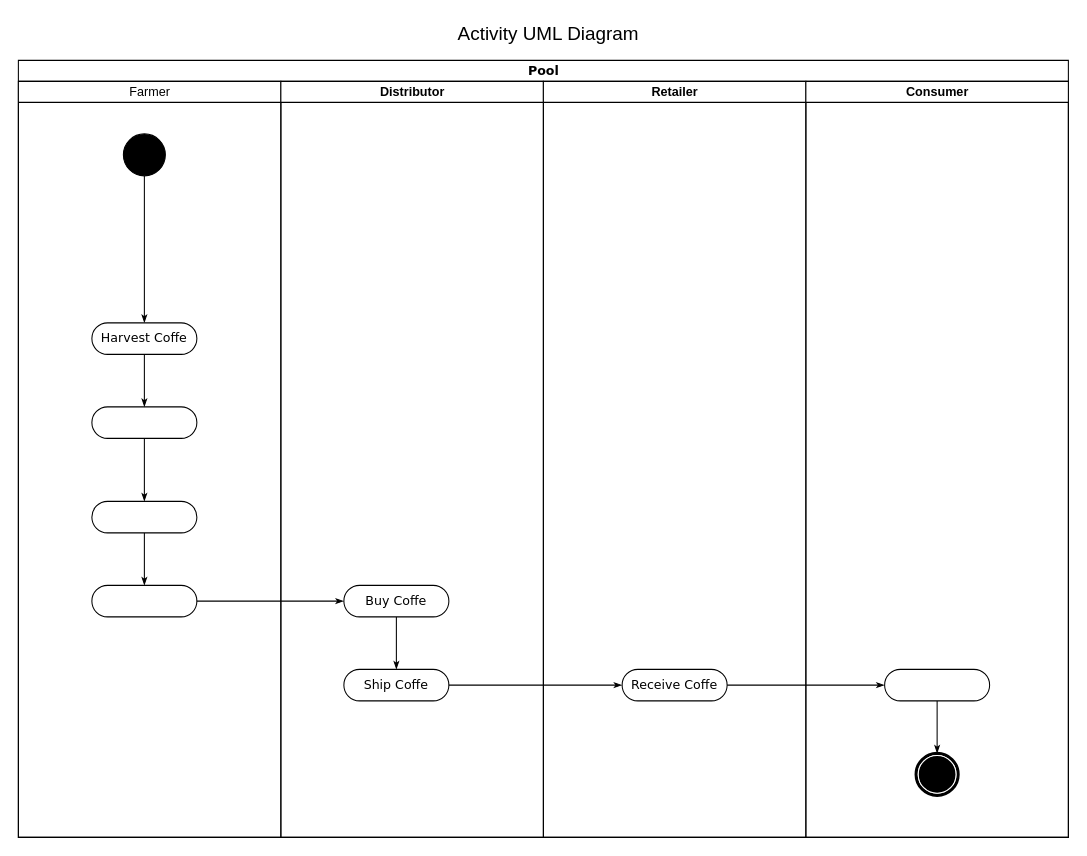
Some shapes in this 1087 by 856 pixel diagram are drawn without their labels. The centre of each missing label's shape, as x and y in pixels:
"Pack Coffe" belongs at (144,516).
"Process Coffe" belongs at (144,422).
"Purchase Coffe" belongs at (937,684).
"Sell Coffe" belongs at (144,600).
